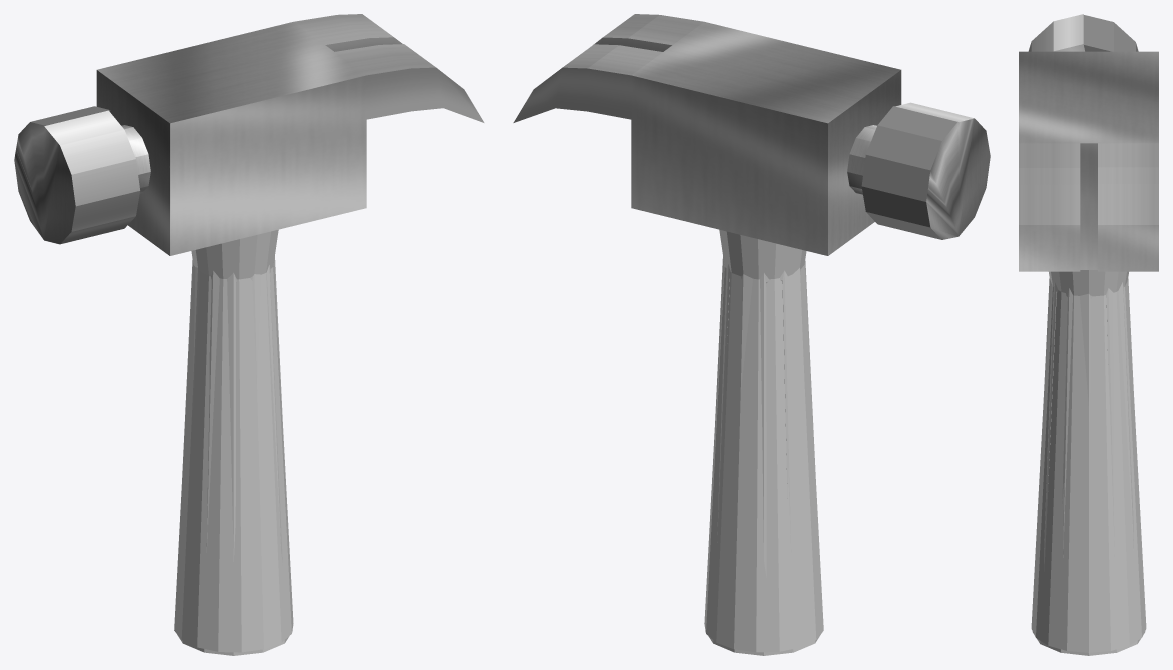
Rendered from Martillo_Texturizado.fbx.
The picture shows the model from 3 angles, left to right: view 1: azimuth 30°, elevation 25°; view 2: azimuth 150°, elevation 25°; view 3: azimuth 270°, elevation 25°; orthographic projection. The views are drawn at different scales.
Visible parts, largest first — view 1: Cubo, Cilindro.002, Cilindro.001, Cilindro; view 2: Cubo, Cilindro.002, Cilindro.001, Cilindro; view 3: Cilindro.002, Cubo, Cilindro, Cilindro.001.
Boxes of the visible parts, <box> form: Cubo: <box>96,14,484,255</box>; Cilindro.002: <box>174,229,293,652</box>; Cilindro.001: <box>14,106,150,244</box>; Cilindro: <box>177,256,289,655</box>; Cubo: <box>513,14,901,255</box>; Cilindro.002: <box>704,229,823,652</box>; Cilindro.001: <box>847,102,990,239</box>; Cilindro: <box>705,256,820,655</box>; Cilindro.002: <box>1031,270,1146,652</box>; Cubo: <box>1019,51,1158,271</box>; Cilindro: <box>1032,278,1145,655</box>; Cilindro.001: <box>1028,14,1138,51</box>.
Size of the model in its own units: 294 by 394 by 91.66.
Materials: 2 (1 with a texture image).
